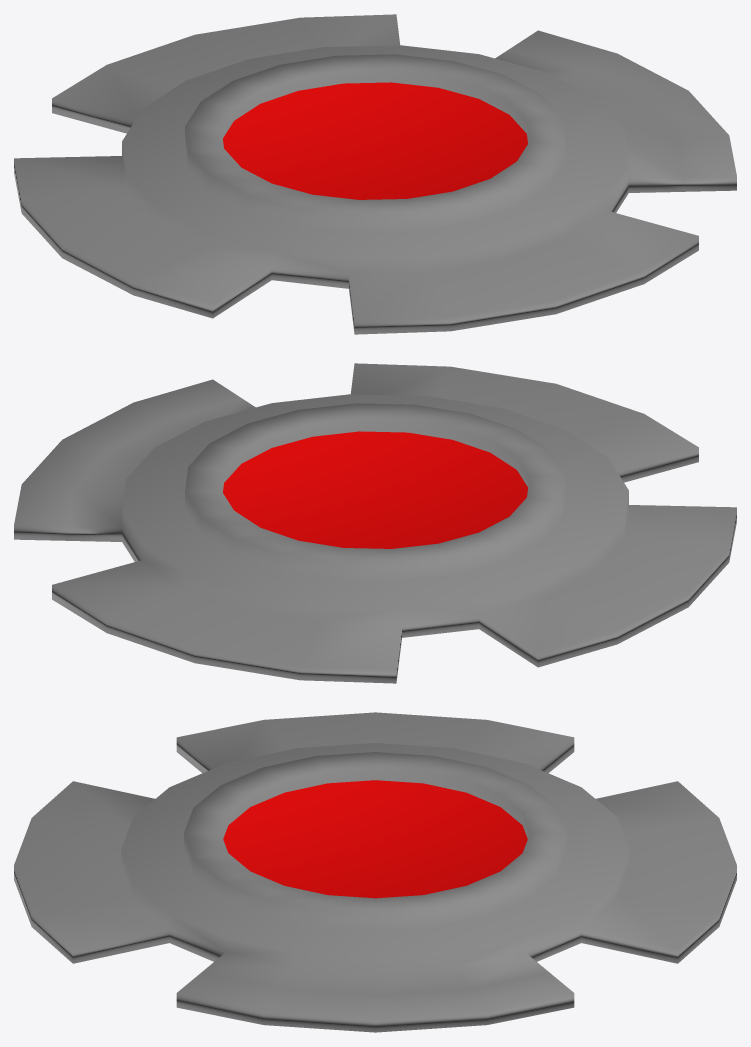
File: Plataforma.fbx
3 views of the same model, one above another, from view 1: azimuth 30°, elevation 25°; view 2: azimuth 150°, elevation 25°; view 3: azimuth 270°, elevation 25° (orthographic).
Visible parts, largest first — view 1: pCylinder3; view 2: pCylinder3; view 3: pCylinder3.
Part boxes in pixels (x1=…): pCylinder3: x1=14, y1=14, x2=736, y2=334; pCylinder3: x1=14, y1=363, x2=736, y2=683; pCylinder3: x1=14, y1=712, x2=736, y2=1032.
Size of the model in its own units: 13.92 by 0.9961 by 13.92.
